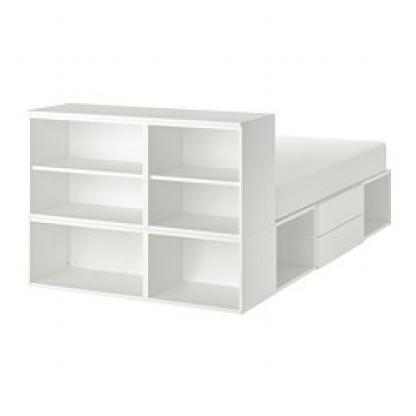Bed: (17, 68, 394, 318)
